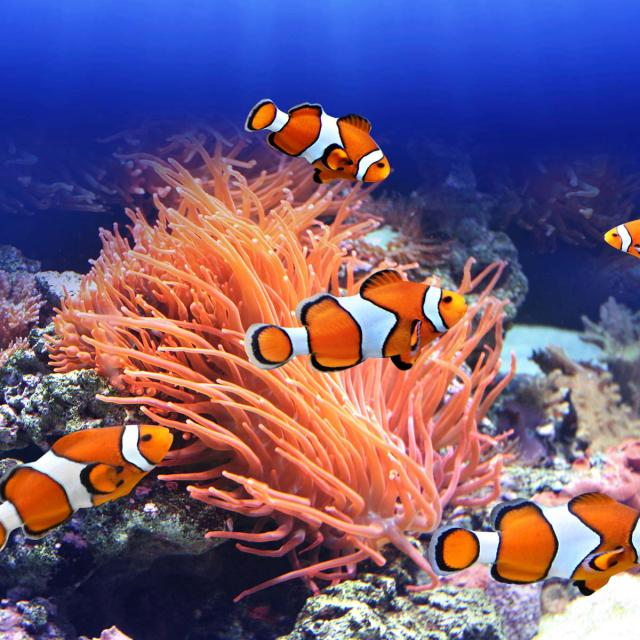ClownFish: (242, 261, 469, 379), (428, 486, 640, 600), (0, 417, 172, 538), (244, 95, 388, 188), (606, 212, 640, 258)
